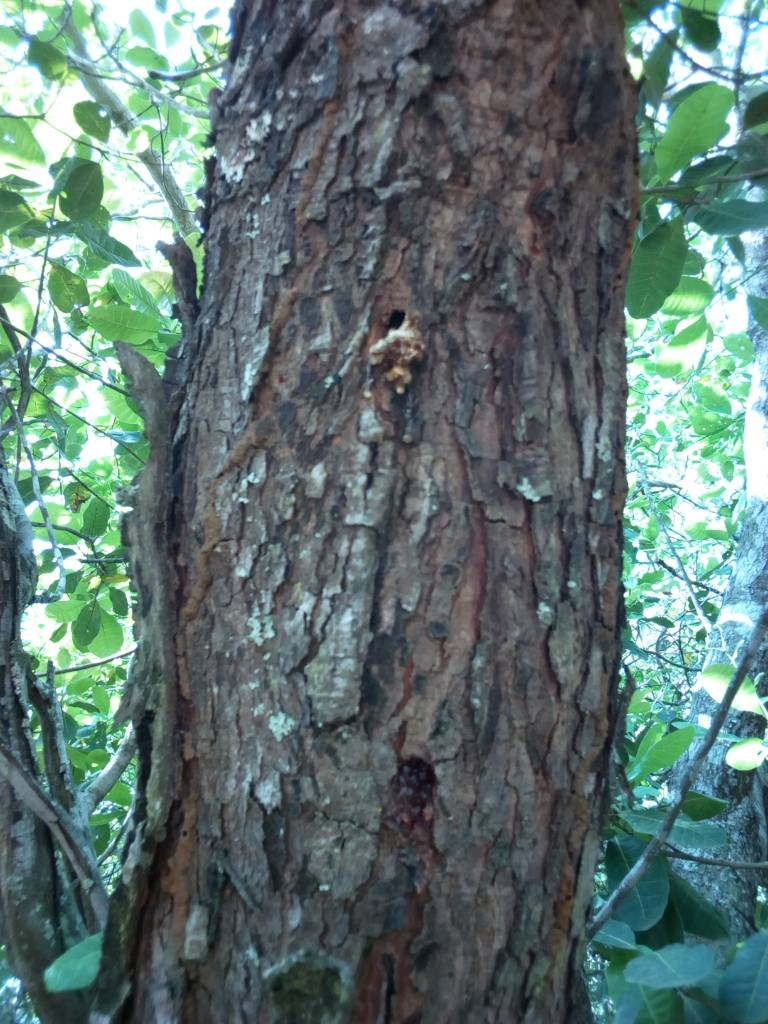Apate terebrans: (335, 292, 460, 378)
